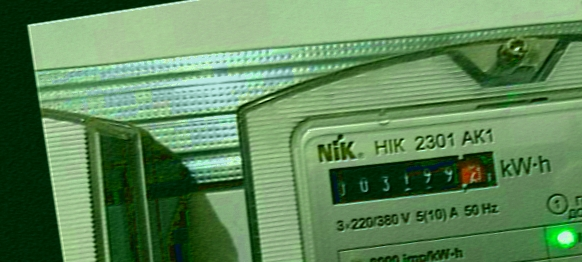0: (334, 176, 349, 199), (356, 173, 371, 194)
1: (400, 167, 413, 187)
3: (379, 173, 392, 193)
6: (468, 168, 480, 186)
9: (421, 164, 435, 186), (442, 163, 456, 183)
screen: (321, 138, 509, 219)
